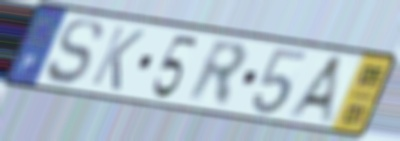5: (250, 47, 311, 117), (149, 32, 201, 99)
A: (284, 53, 347, 129)
K: (87, 23, 148, 94)
R: (184, 36, 251, 110)
S: (45, 18, 107, 87)
